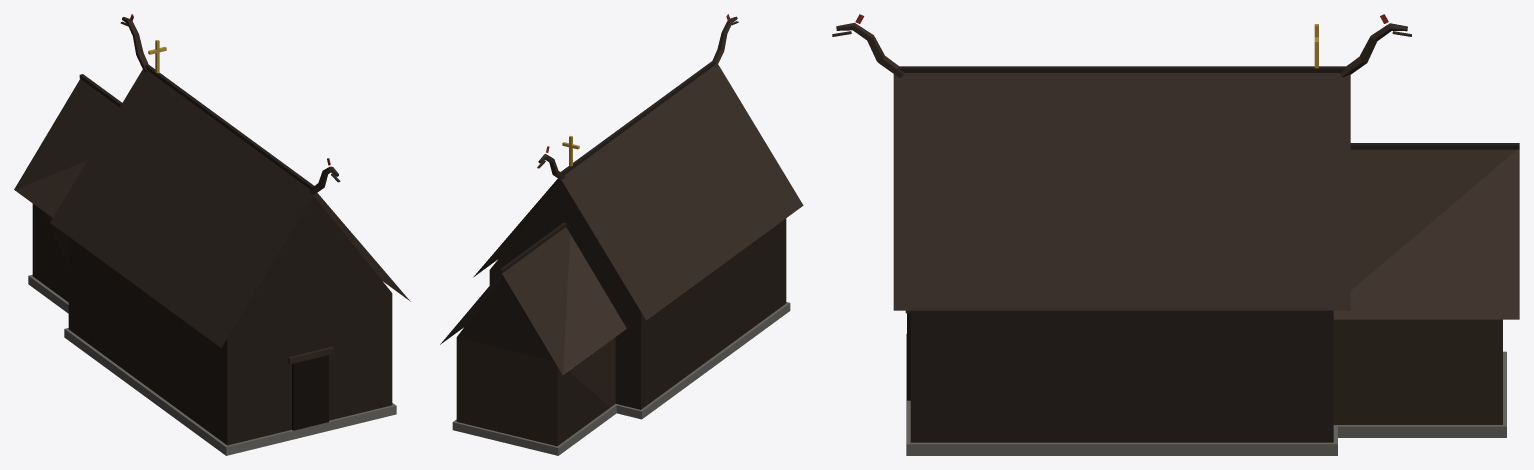
File: d3_kirke.glb
3 views of the same model, side by side, from view 1: azimuth 30°, elevation 25°; view 2: azimuth 150°, elevation 25°; view 3: azimuth 270°, elevation 25° (orthographic). The views are drawn at different scales.
Visible parts, largest first — view 1: D3_traekirke; view 2: D3_traekirke; view 3: D3_traekirke.
Part boxes in pixels (box(x1,y1,x2,y2)): D3_traekirke: box(14, 14, 410, 455); D3_traekirke: box(440, 14, 803, 455); D3_traekirke: box(832, 14, 1519, 455).
Size of the model in its own units: 6.9 by 10.08 by 16.25.
